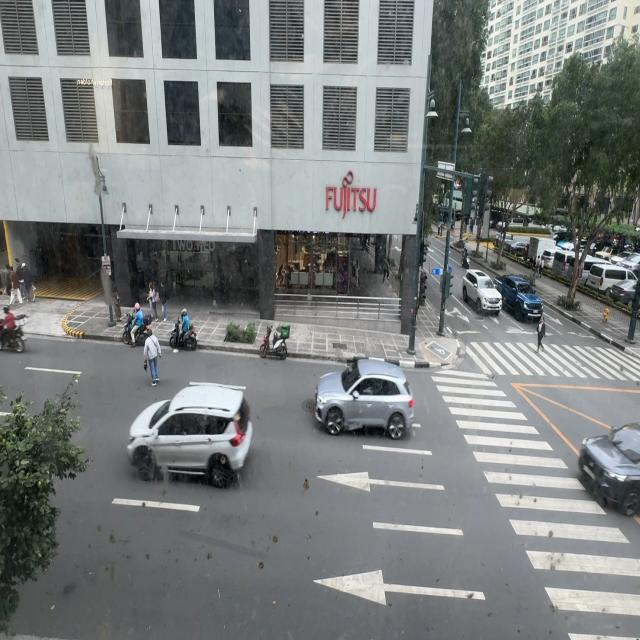crossing: (536, 314, 546, 355)
pedestrain: (8, 264, 24, 306), (21, 262, 34, 302), (148, 283, 156, 323), (160, 283, 168, 322), (530, 260, 537, 283), (535, 256, 541, 279)
waiting: (143, 327, 162, 385)
